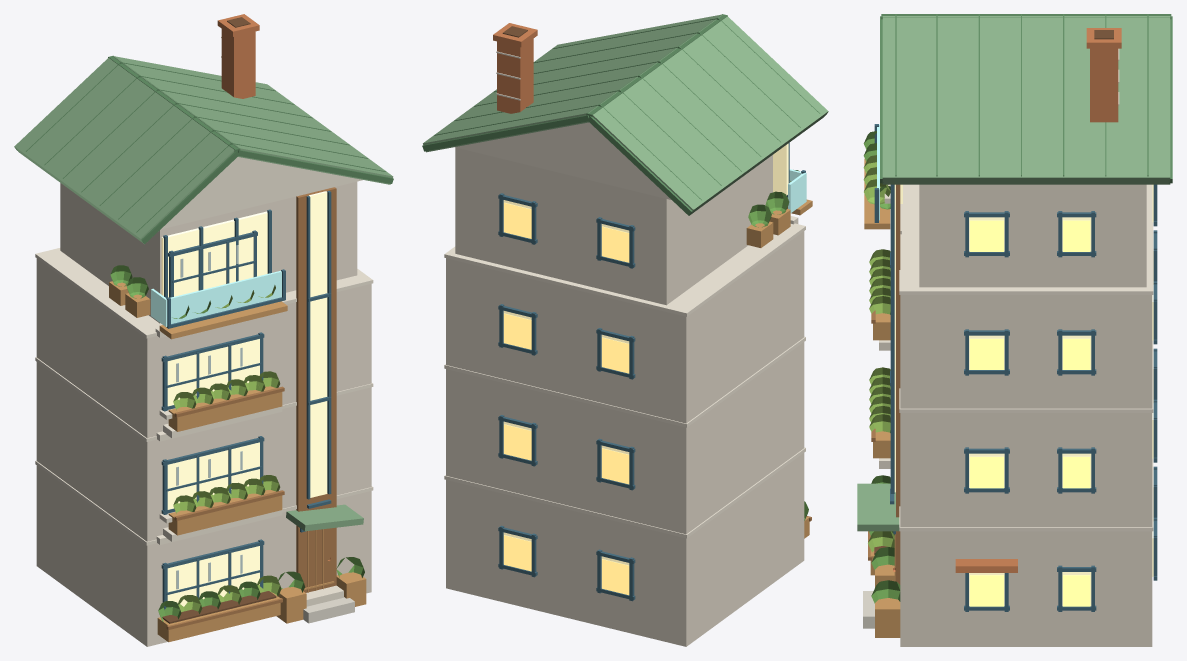
File: house-l04.glb
3 views of the same model, side by side, from view 1: azimuth 30°, elevation 25°; view 2: azimuth 150°, elevation 25°; view 3: azimuth 270°, elevation 25° (orthographic). The views are drawn at different scales.
Visible parts, largest first — view 1: Residential_L04; view 2: Residential_L04; view 3: Residential_L04.
Boxes of the visible parts, x1,y1,x2,y2 form: Residential_L04: [14, 14, 393, 646]; Residential_L04: [422, 14, 828, 646]; Residential_L04: [857, 14, 1172, 646].
Bounding box in the file's own units: 6.15 × 11.85 × 5.76.
